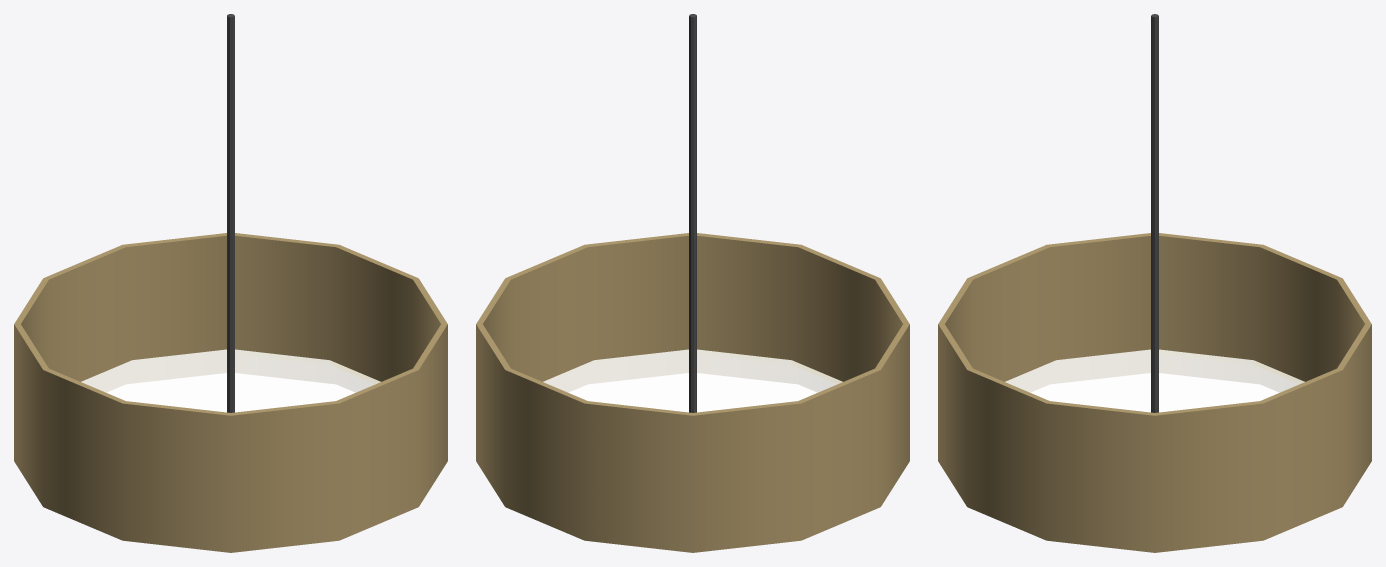
The model's file is ceillingLamp.fbx.
3 renders of one model, left to right at view 1: azimuth 30°, elevation 25°; view 2: azimuth 150°, elevation 25°; view 3: azimuth 270°, elevation 25°, orthographic.
Visible parts, largest first — view 1: ceillingLamp; view 2: ceillingLamp; view 3: ceillingLamp.
Boxes of the visible parts, x1,y1,x2,y2 form: ceillingLamp: (14, 14, 447, 552); ceillingLamp: (476, 14, 909, 552); ceillingLamp: (938, 14, 1371, 552).
Size of the model in its own units: 70.23 by 79.63 by 70.23.
